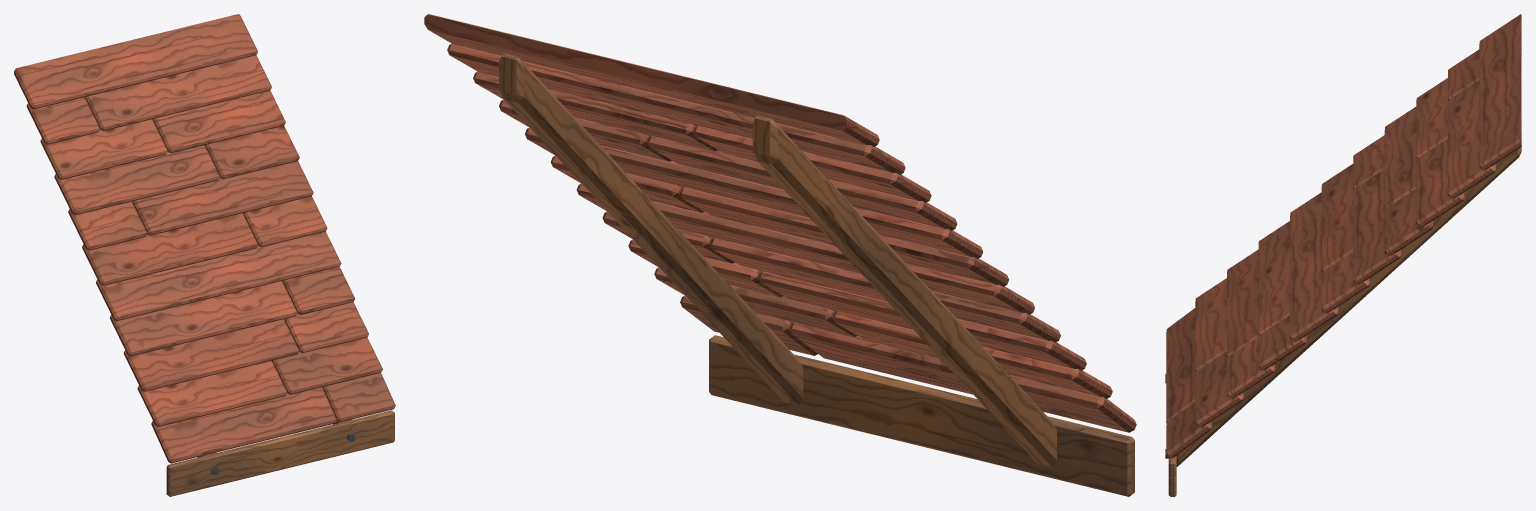
File: egimli_cati.glb
The picture shows the model from 3 angles, left to right: view 1: azimuth 30°, elevation 25°; view 2: azimuth 150°, elevation 25°; view 3: azimuth 270°, elevation 25°; orthographic projection. The views are drawn at different scales.
Visible parts, largest first — view 1: egimli_cati; view 2: egimli_cati; view 3: egimli_cati.
Boxes of the visible parts, box(x1,y1,x2,y2) form: egimli_cati: box(14, 14, 395, 496); egimli_cati: box(424, 14, 1136, 496); egimli_cati: box(1165, 14, 1521, 496).
Size of the model in its own units: 3 by 4 by 3.6.
Materials: 1 (1 with a texture image).
